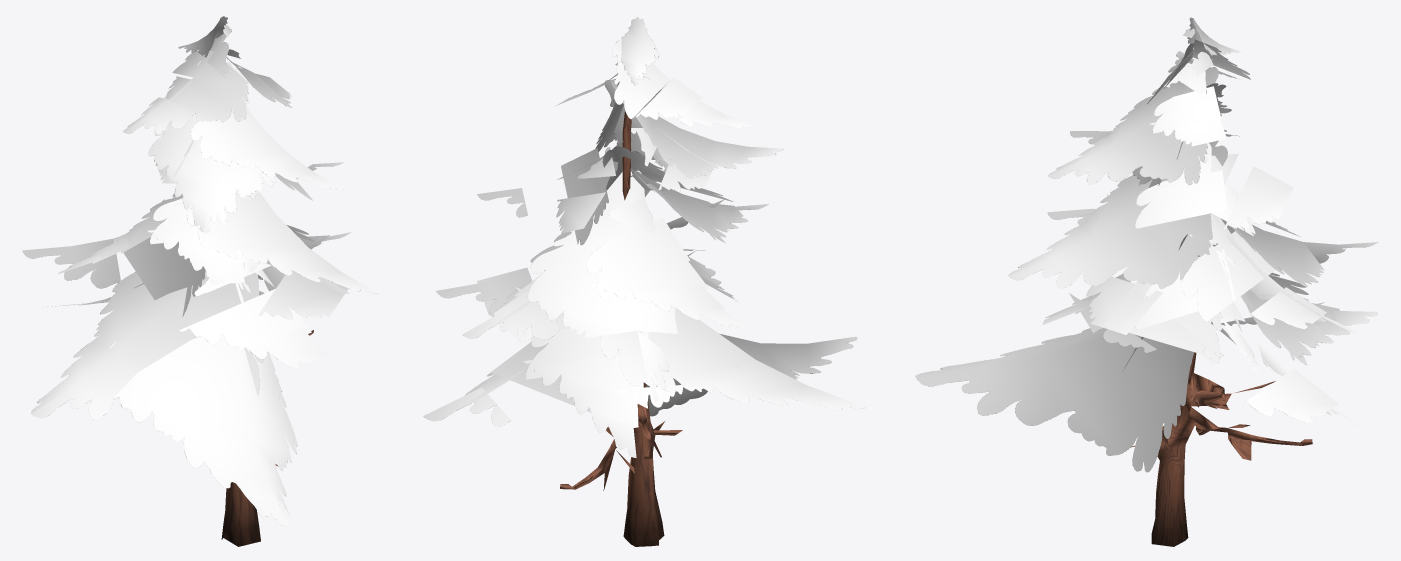
Rendered from Pine_2.gltf.
3 views of the same model, side by side, from view 1: azimuth 30°, elevation 25°; view 2: azimuth 150°, elevation 25°; view 3: azimuth 270°, elevation 25° (orthographic). The views are drawn at different scales.
Parts seen in each view (by area): view 1: Pine_2; view 2: Pine_2; view 3: Pine_2.
Boxes of the visible parts, x1,y1,x2,y2 form: Pine_2: (22, 16, 378, 546); Pine_2: (423, 17, 865, 546); Pine_2: (915, 17, 1378, 546).
Size of the model in its own units: 5.79 by 7.46 by 6.27.
Materials: 2 (2 with a texture image).
